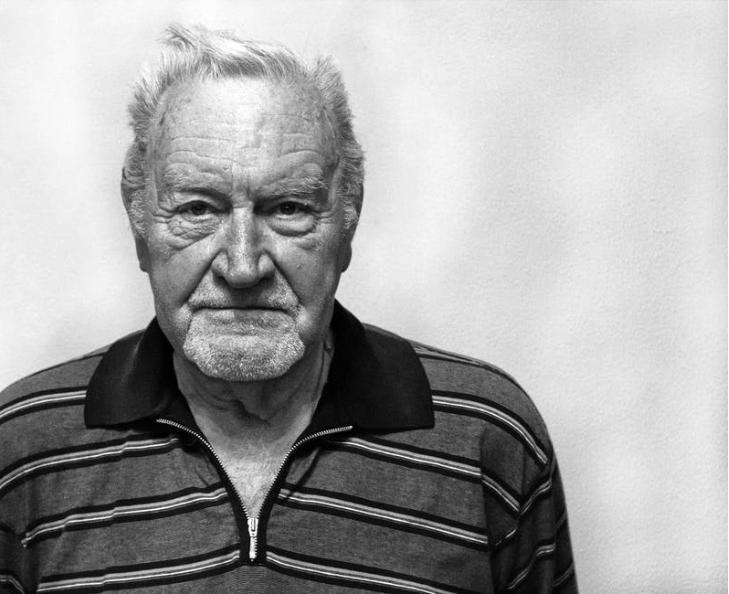face: (142, 78, 341, 380)
